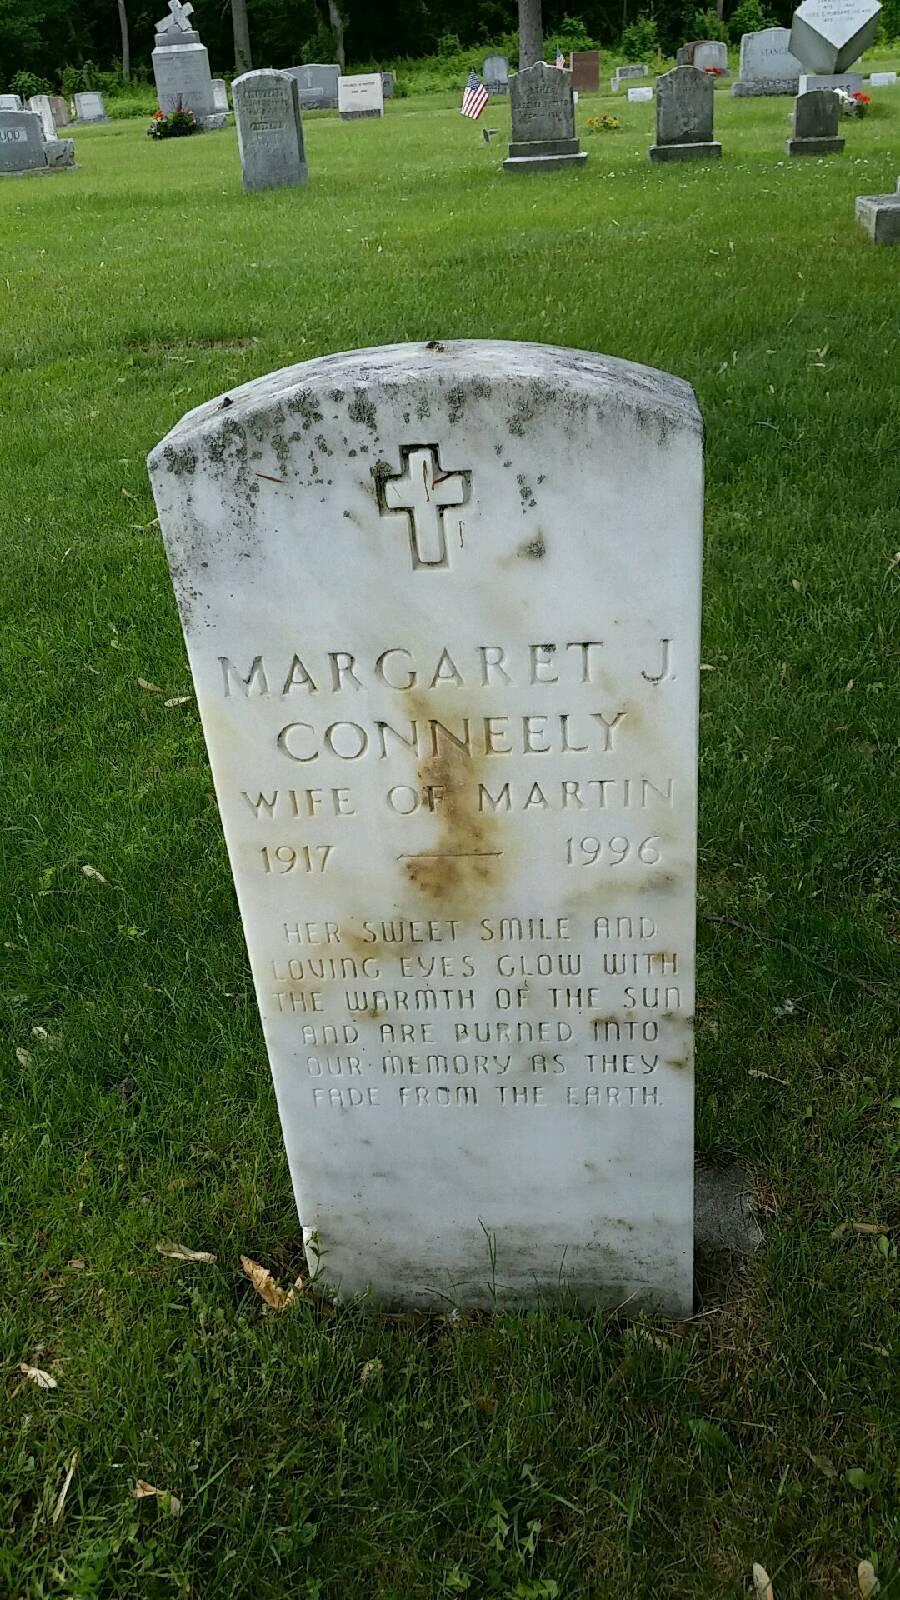military: (158, 354, 702, 1295)
